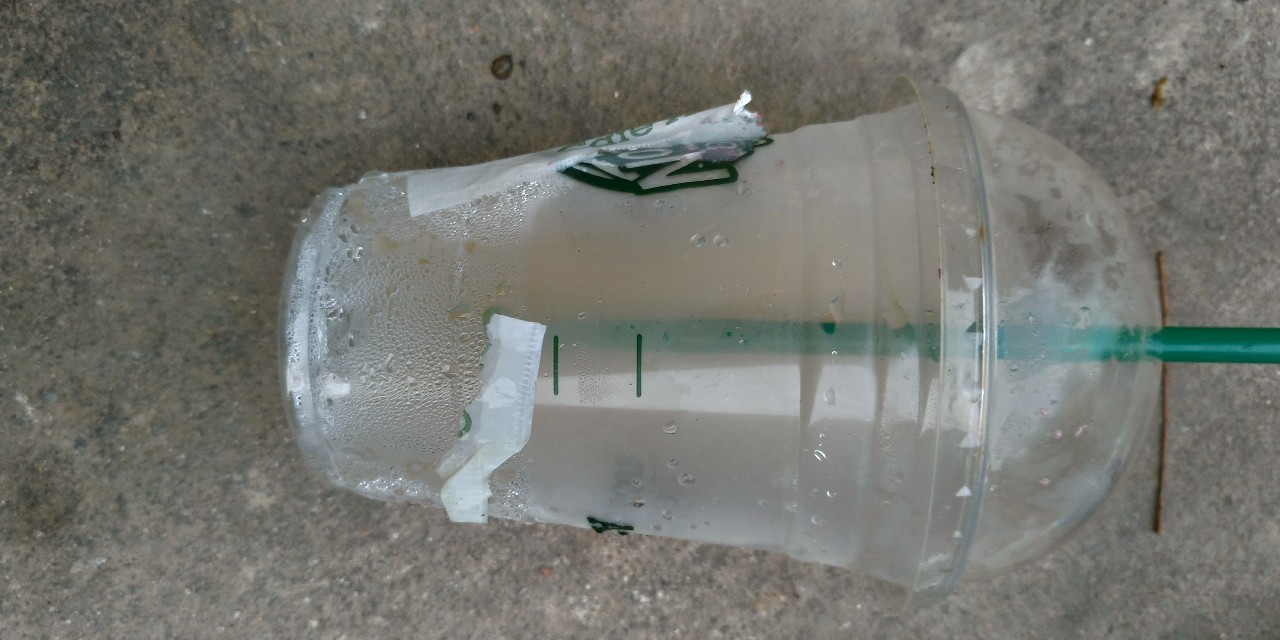PlasticCup: (283, 76, 1162, 582)
